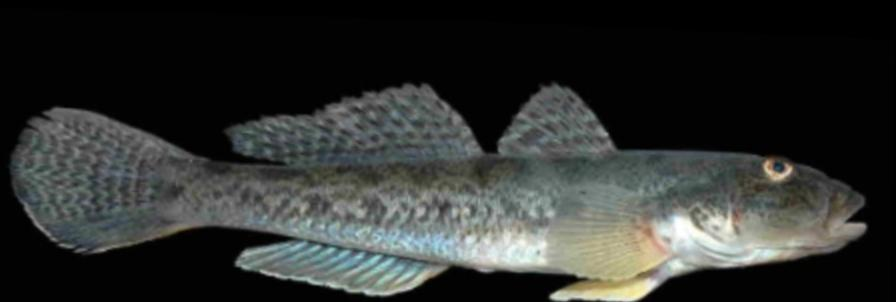fish: (11, 79, 865, 295)
